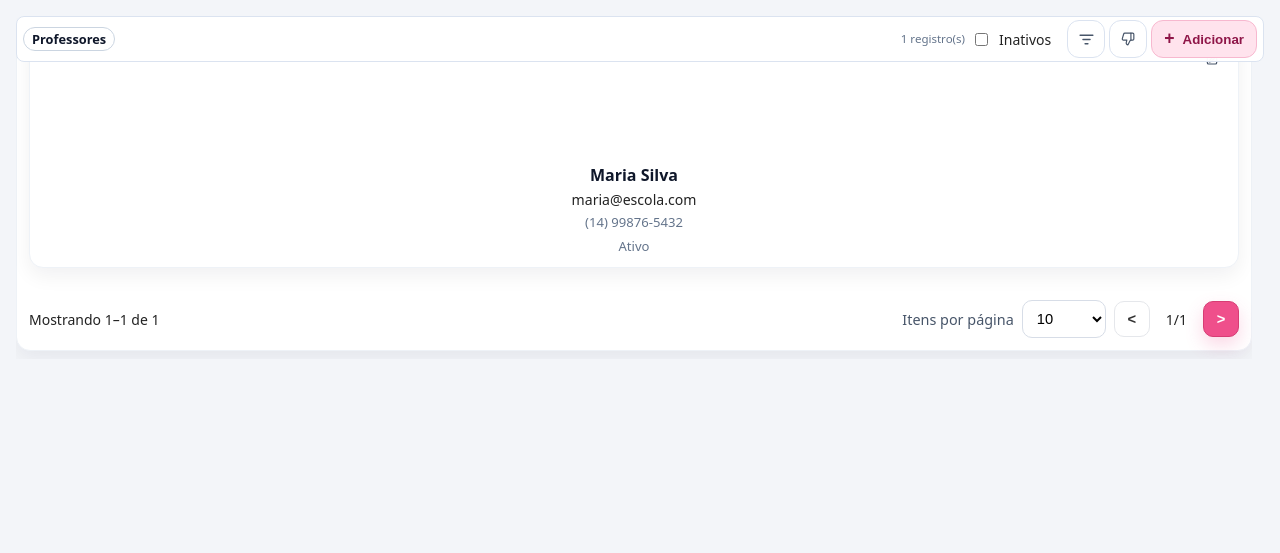
Scenario: Fatia final das listagens › Professores exibe apenas critérios no drawer de filtros
The width and height of the screenshot is (1280, 553).
Expected: the text "(14) 99876-5432" is shown, [585,213,683,231]
Click the button named "Abrir filtros". click: (1086, 39)
box: [1067,20,1105,58]
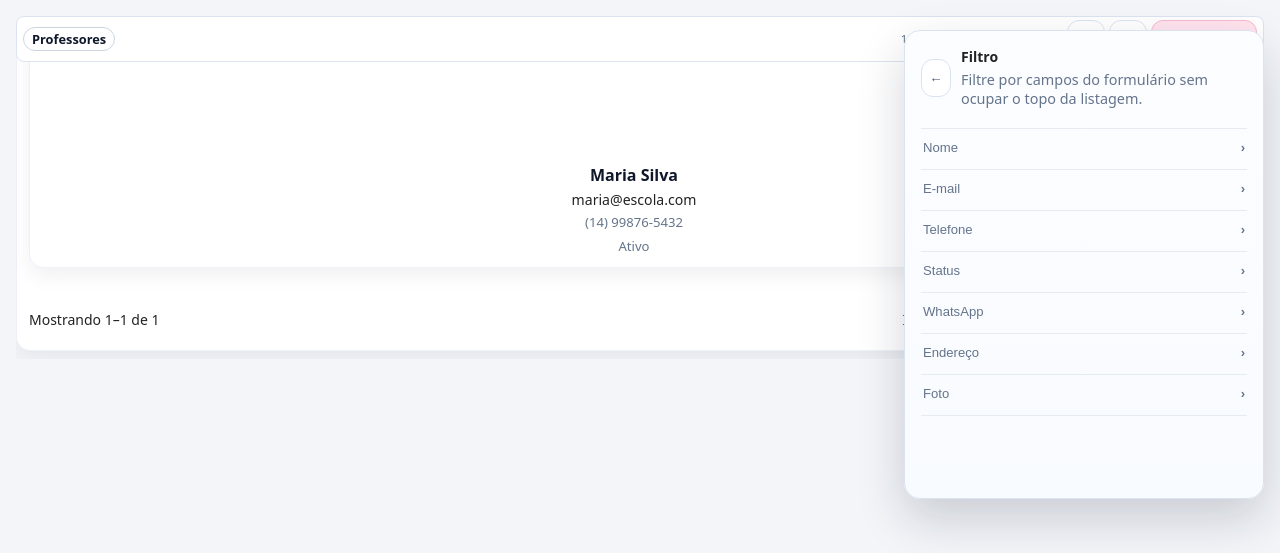
Expected: the button "Nome ›" is shown, [921,129,1247,170]
Expected: the button "E-mail ›" is shown, [921,170,1247,211]
Expected: the button "Telefone ›" is shown, [921,211,1247,252]
